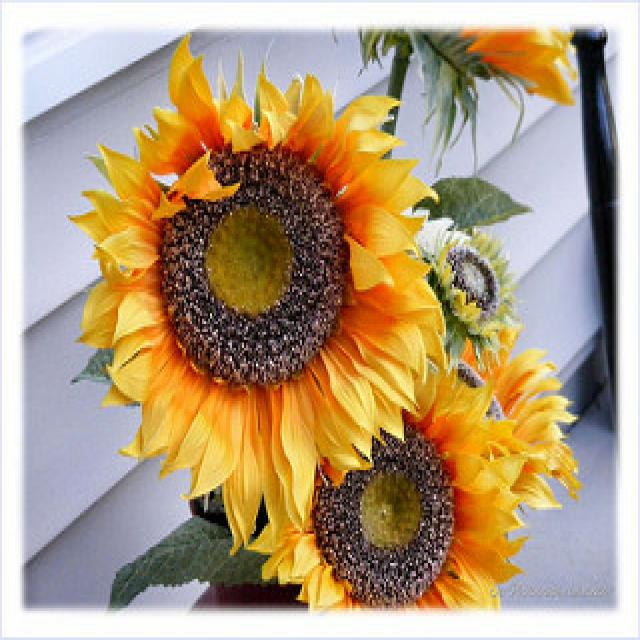sunflower: (94, 66, 440, 492), (232, 338, 570, 614)
